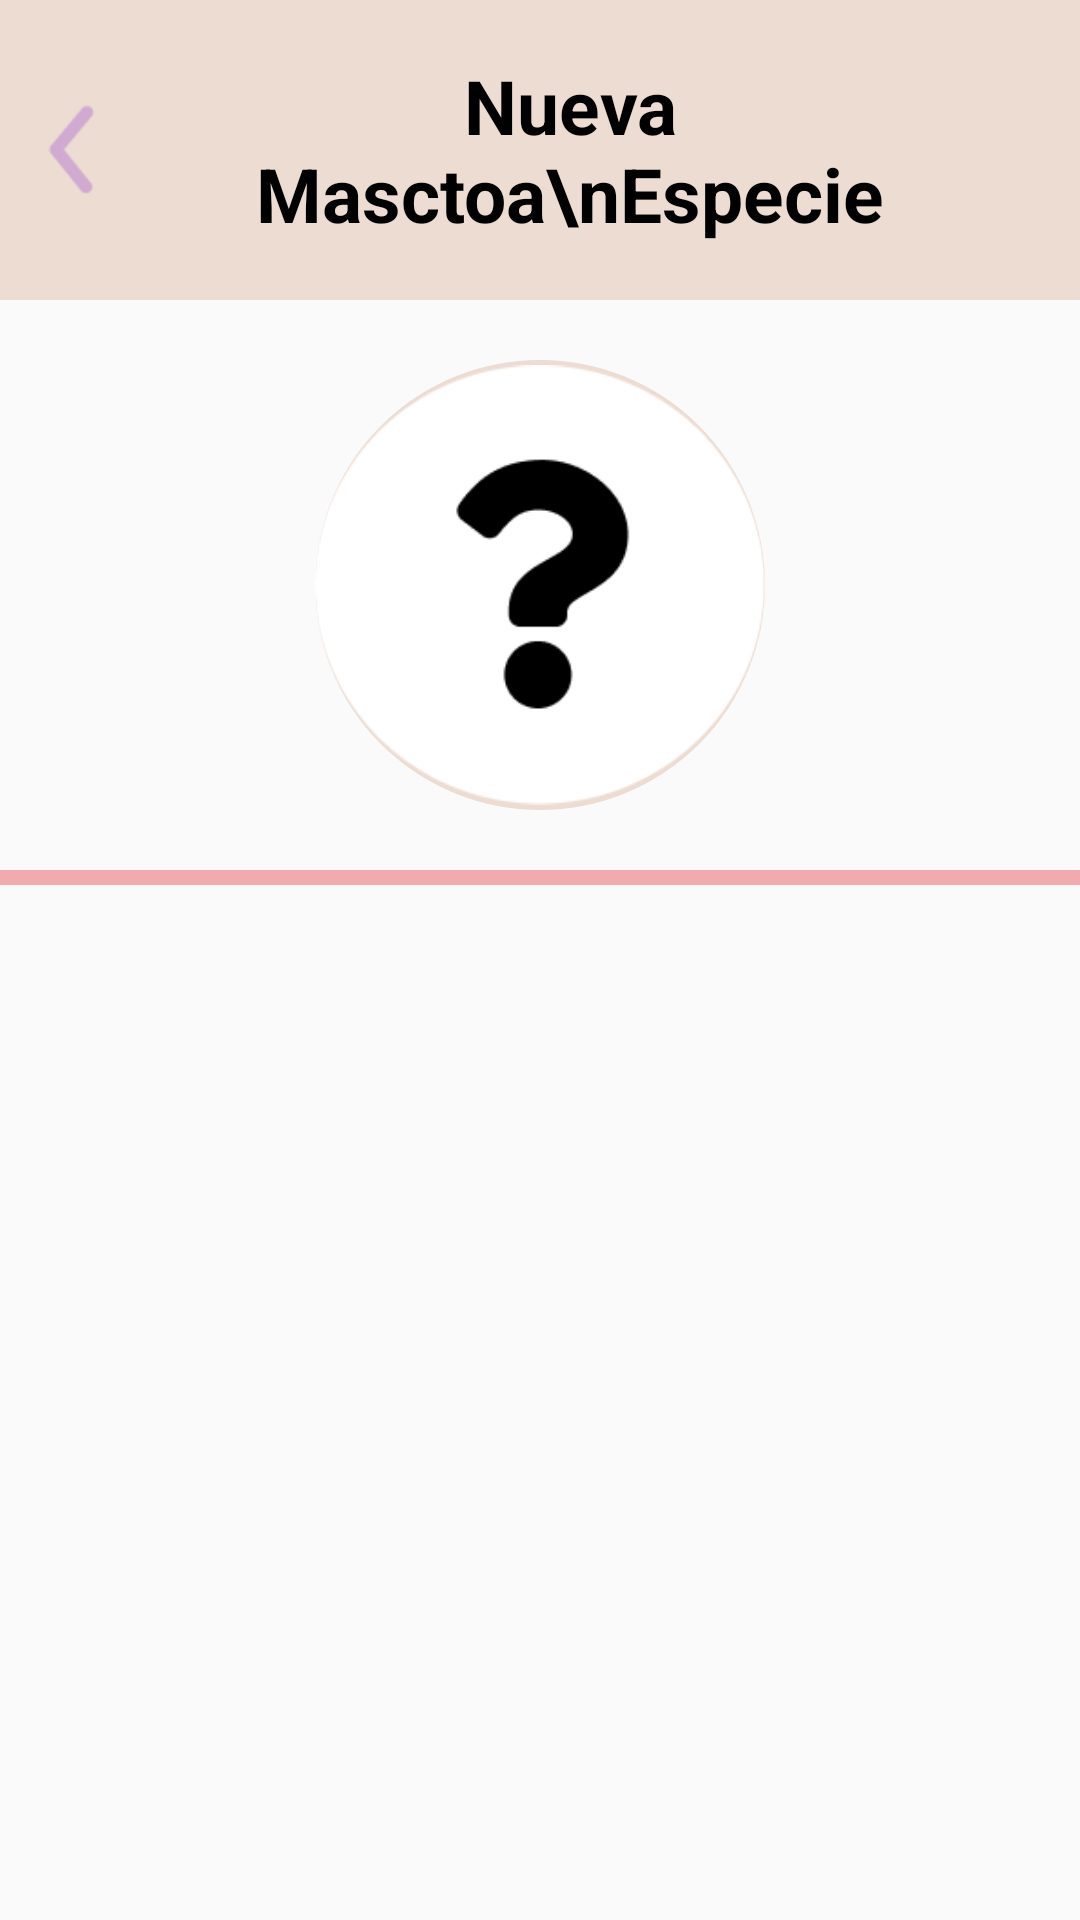

Icons on this 1080*1920 Android screen, each with the point to tap as [x,y]:
back: [71,149]
